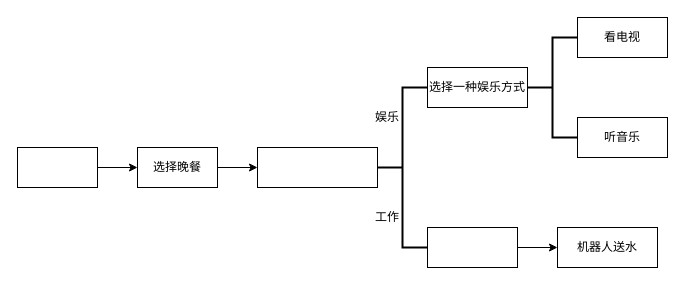
Some shapes in this 685 by 285 pixel diagram are drawn without their labels. The shapes that lost their labels are listed below. From the top down, each one's centre as x and y in pixels, then its label:
[57,167]: 主人回家
[317,167]: 选择是娱乐还是工作
[472,247]: 人去工作
